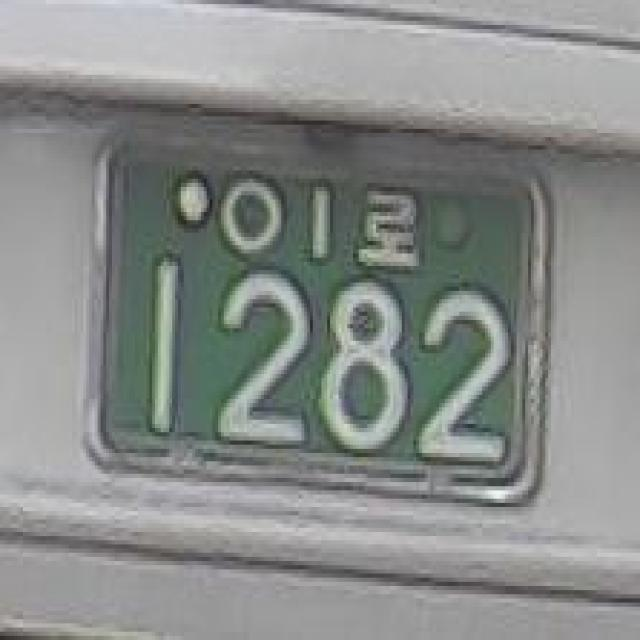illegal_plate: (75, 118, 569, 532)
